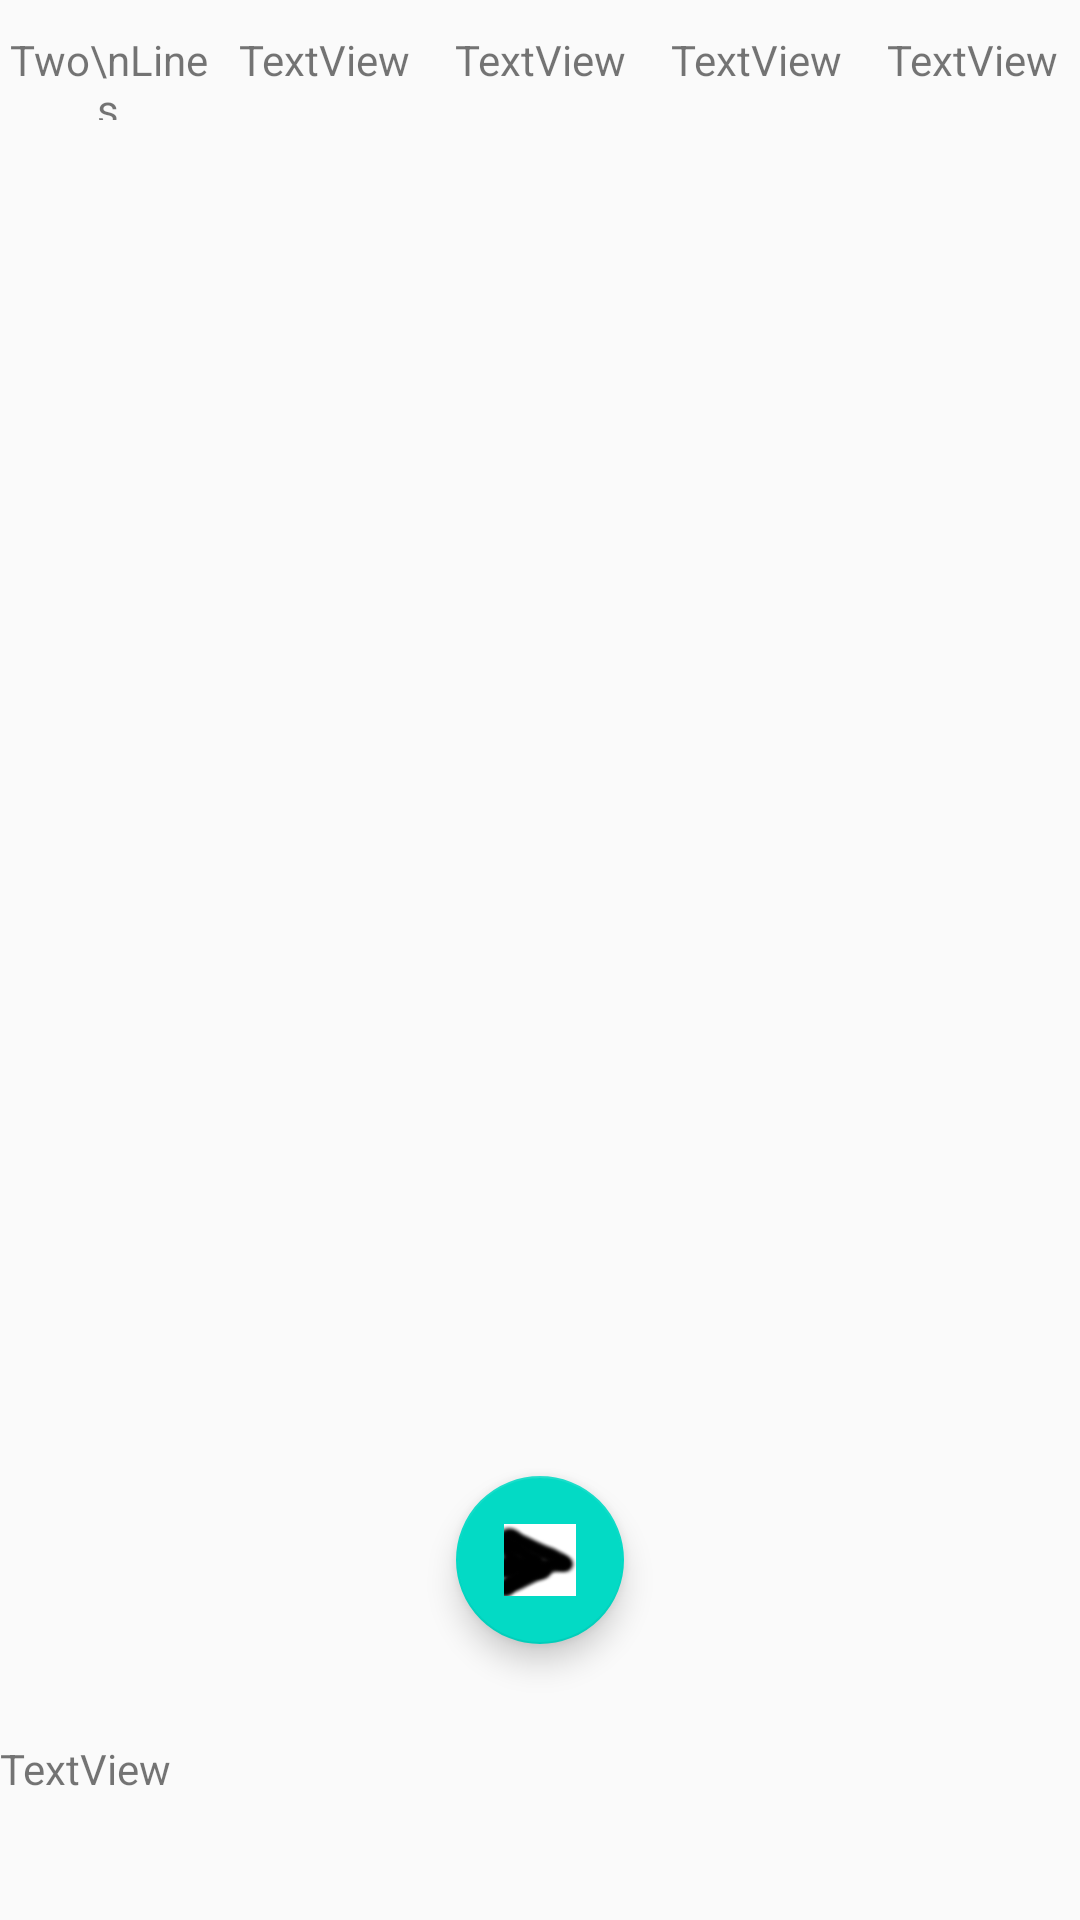

Screen size 1080px×1920px. Icon name, then its box in pixels as detection(x1, y1, x2, y2):
play: detection(456, 1476, 624, 1644)
